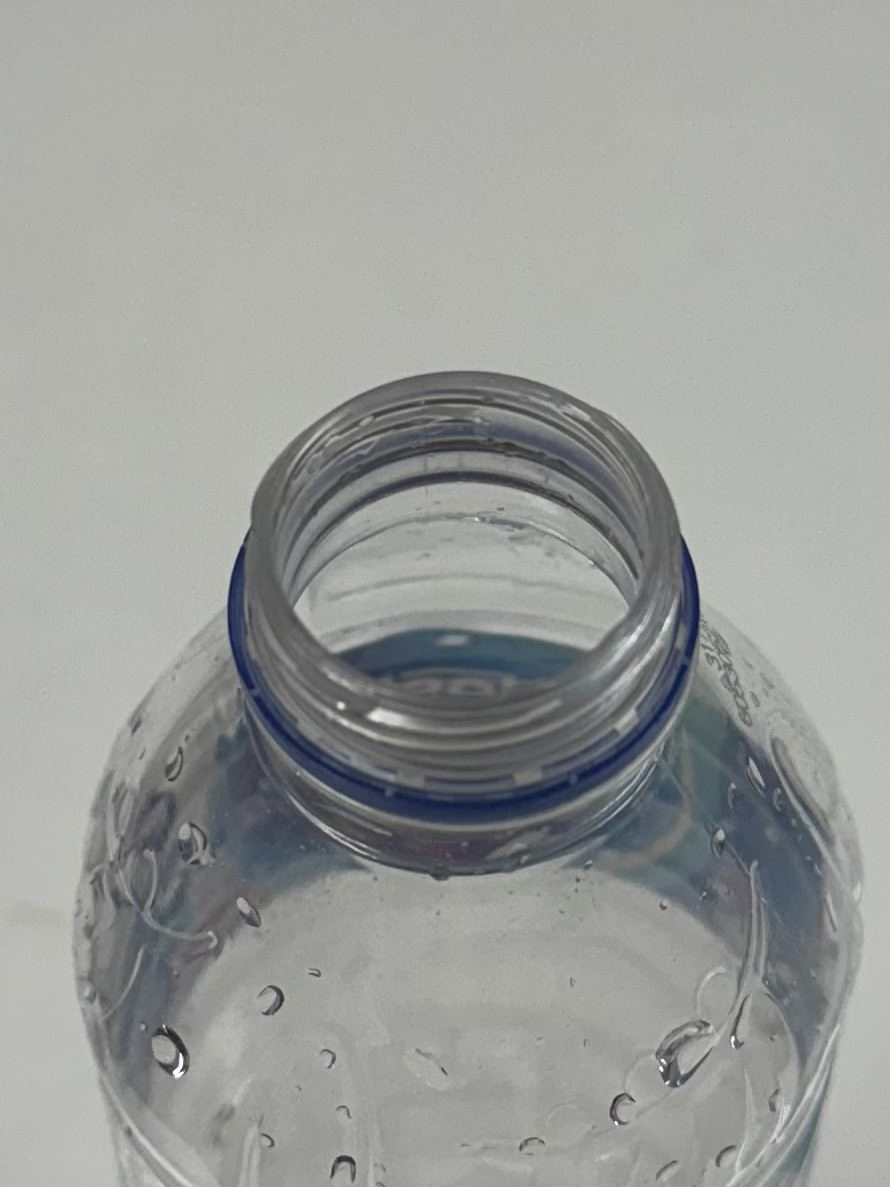no_cap: (219, 360, 714, 876)
